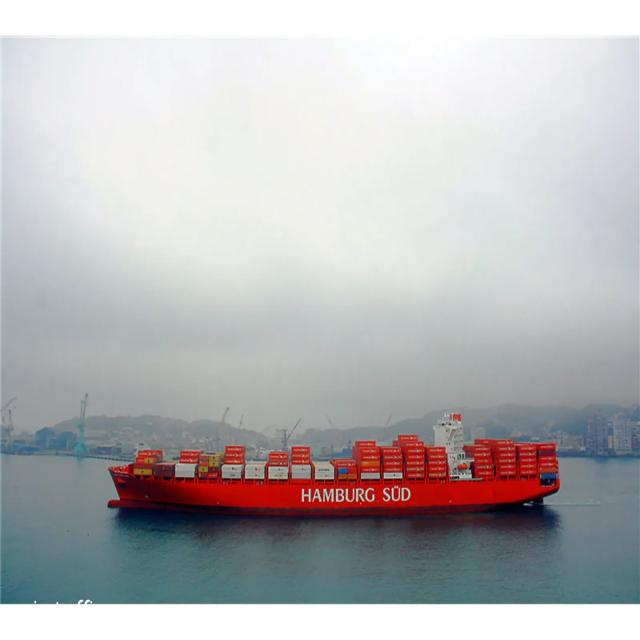Cargo: (108, 412, 560, 515)
